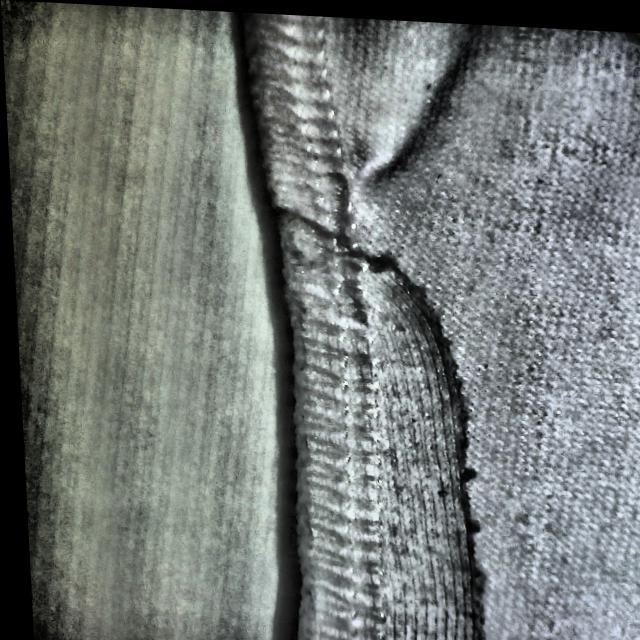seam: (271, 235, 546, 640)
